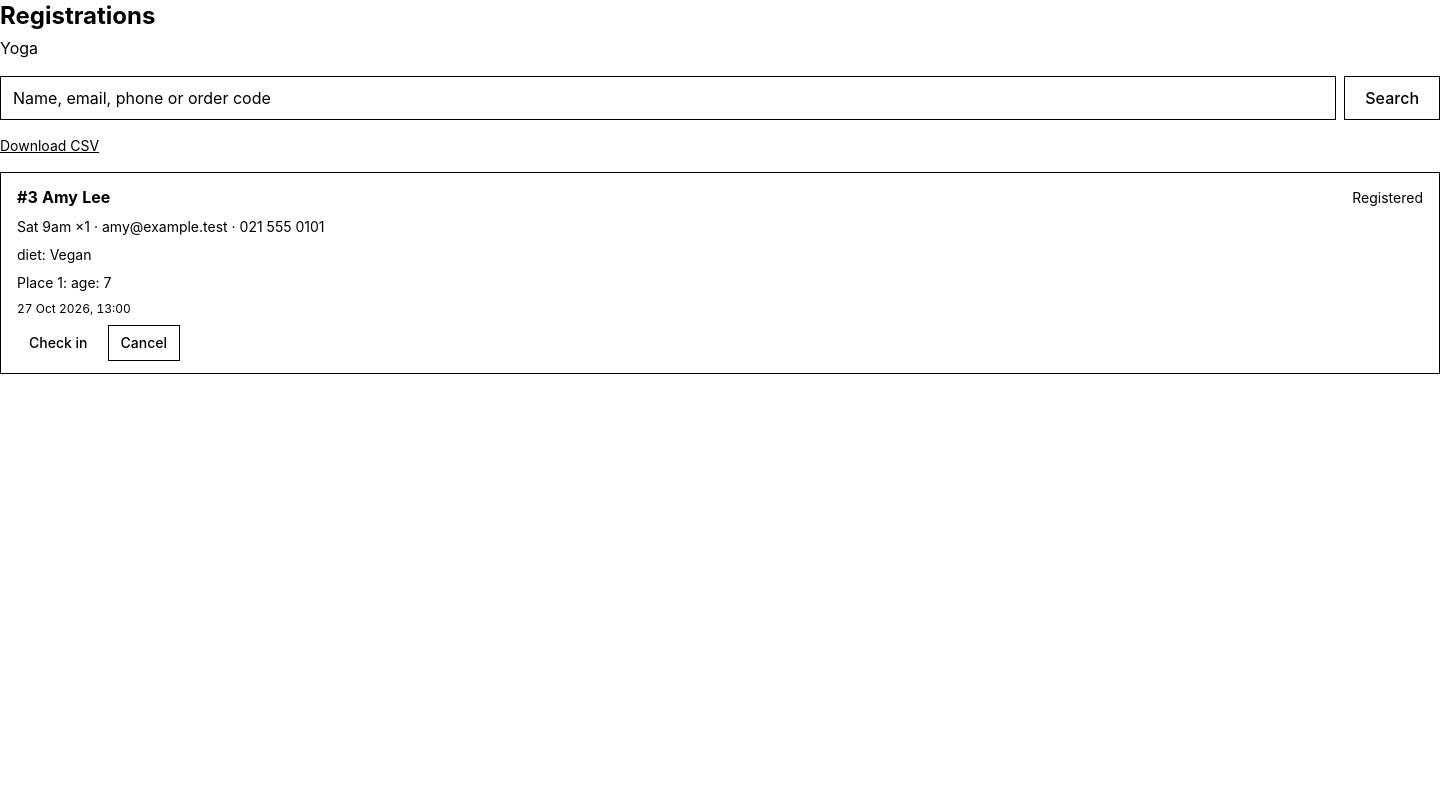
Test: OrderList (merchant registrations) › cancels only with a reason, which is sent to the backend
Click the button "Cancel". click: (144, 343)
box: [108,325,180,361]
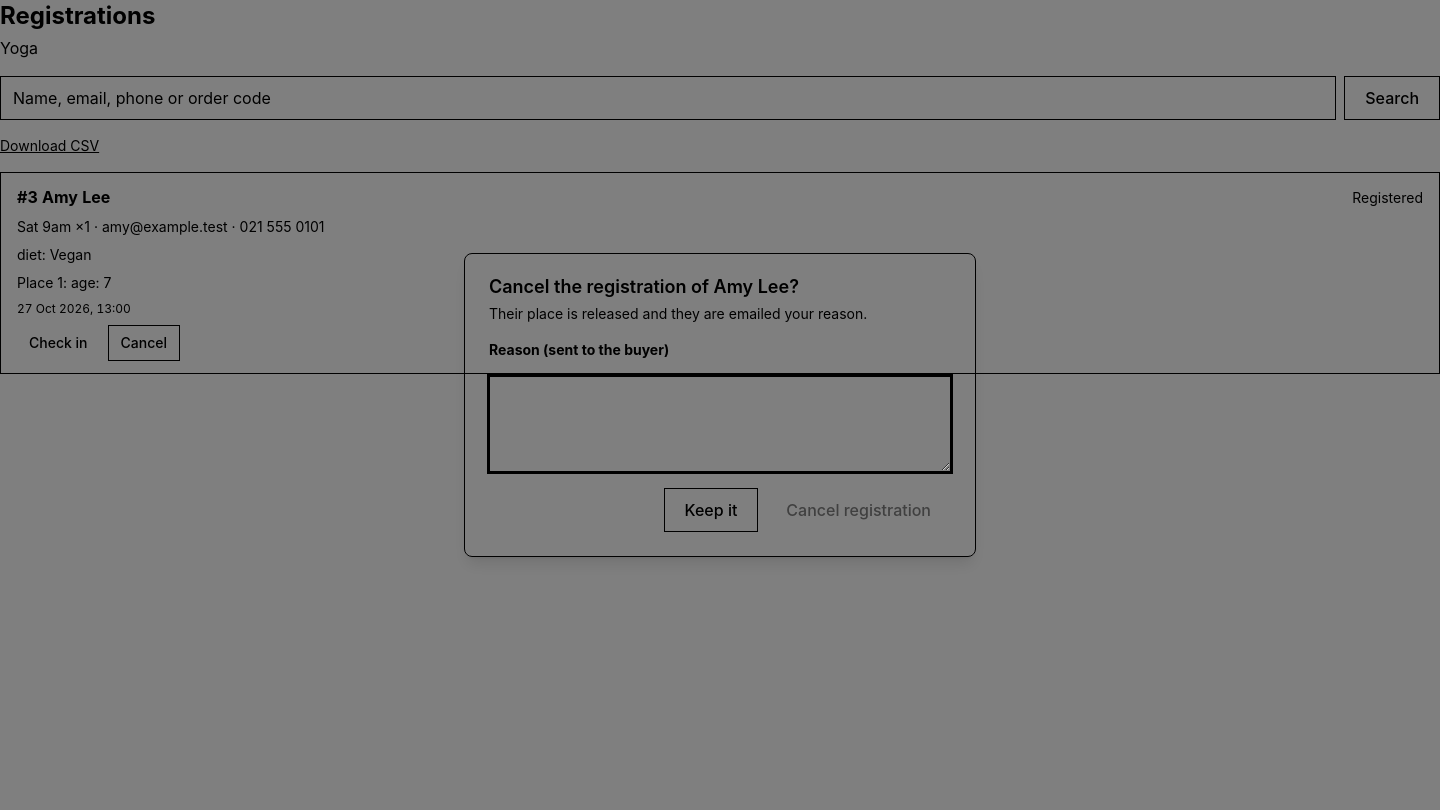
Check: the button "Cancel registration" is disabled, box [766,488,951,532]
Type "Venue flooded" into the text box labelled "Reason (sent to the buyer)". click: (720, 424)
box: [489,376,951,472]
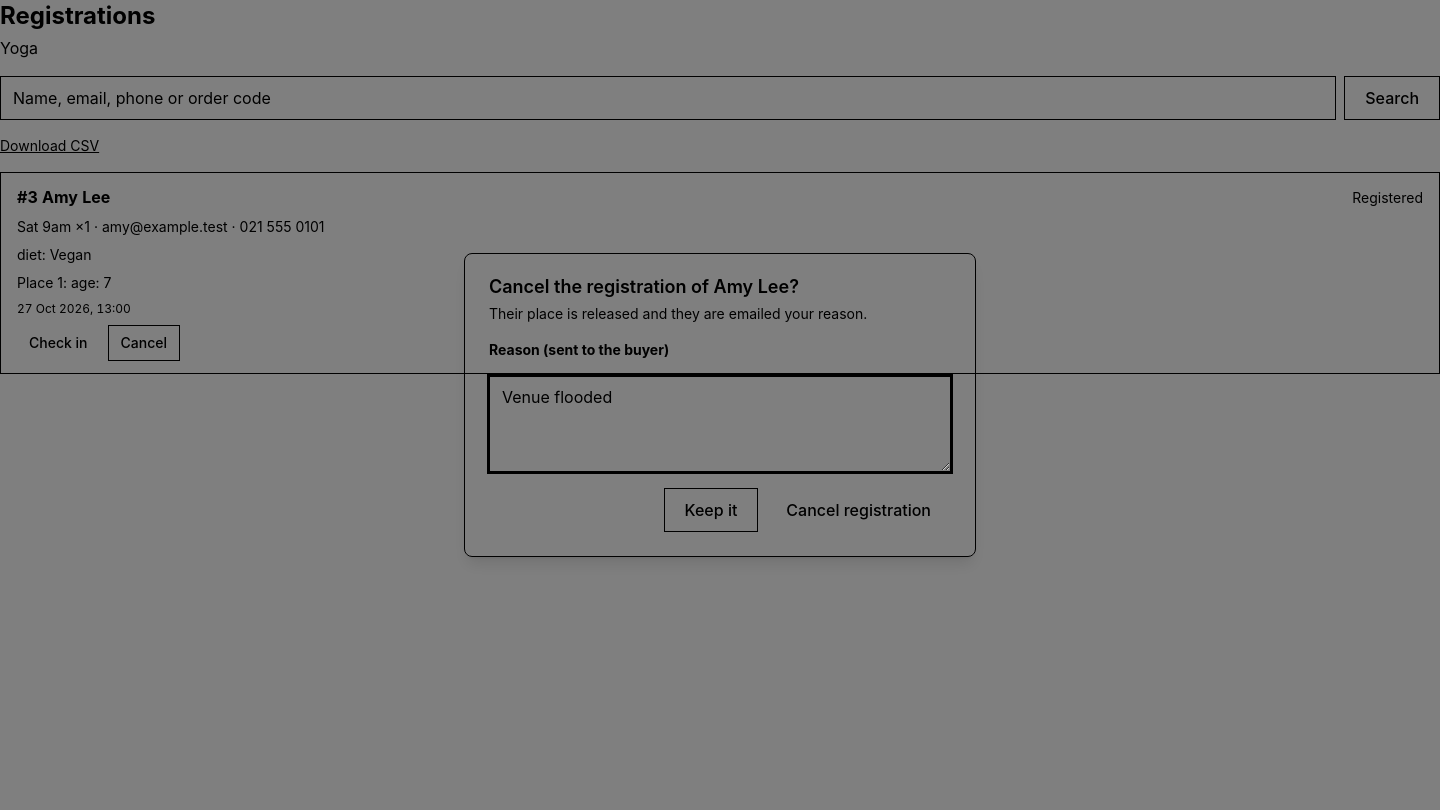
Click the button "Cancel registration". click: (859, 510)
box: [766,488,951,532]
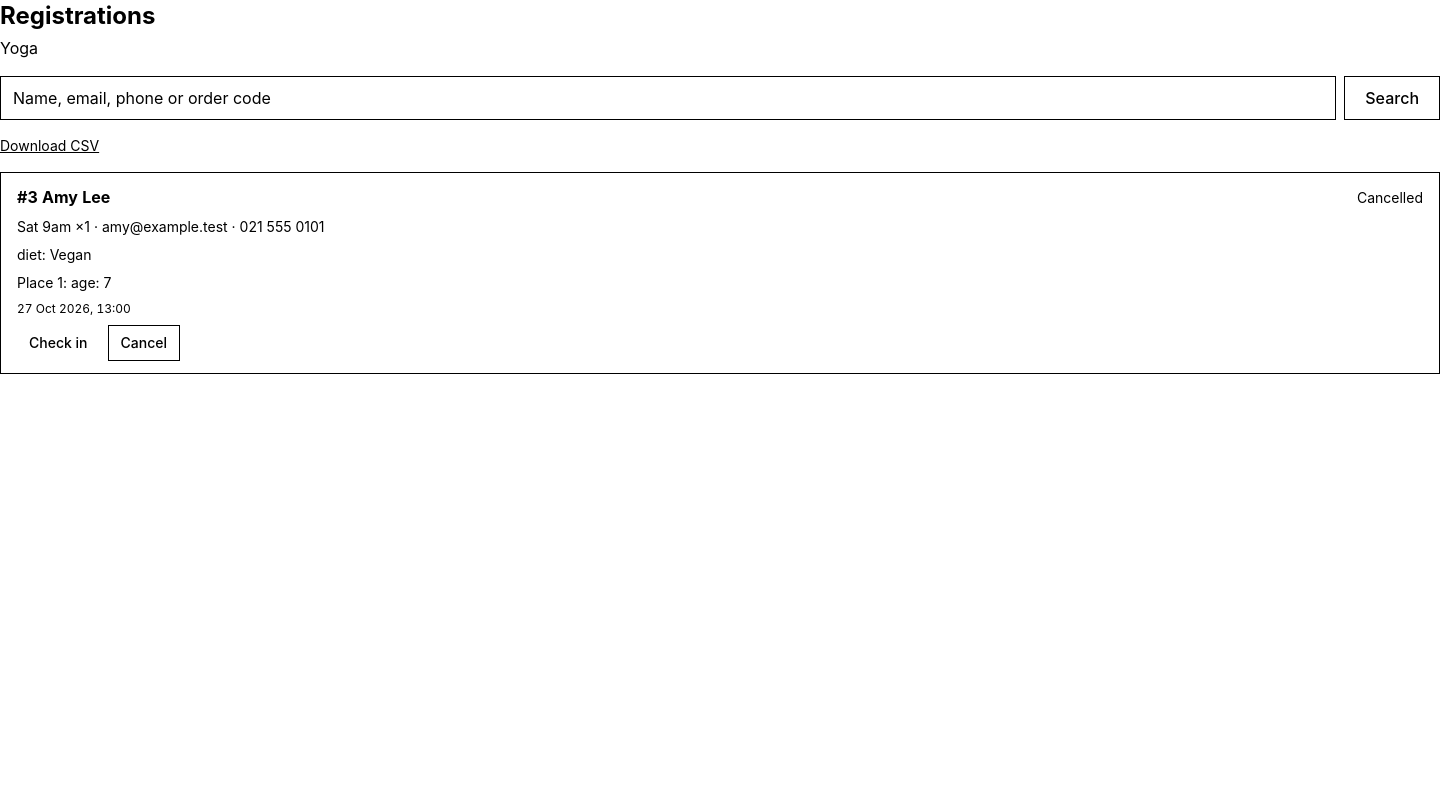
Check: the list item shows "Cancelled", box [1357,189,1423,206]
